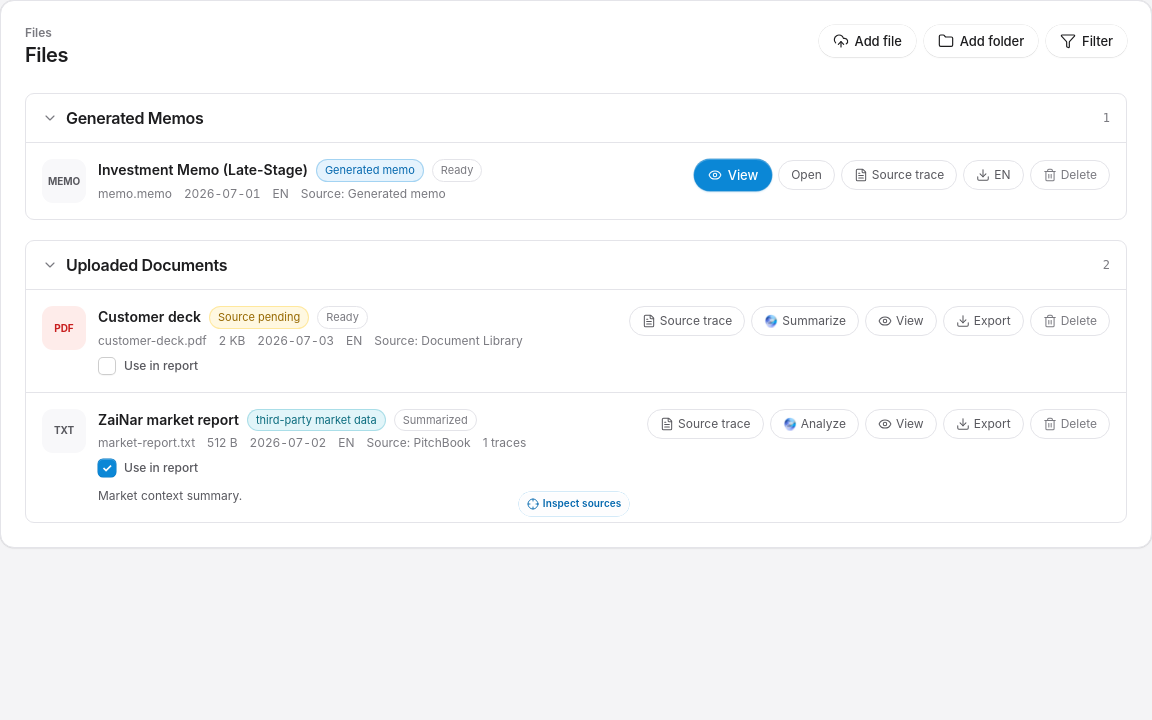
UnifiedDocumentsView › renders grouped documents, filters source classes, and opens source traces
The image size is (1152, 720).
Expected: the text "1 awaiting review" is not shown
Click the button "Filter" at (1087, 41), box [1046,25,1127,57]
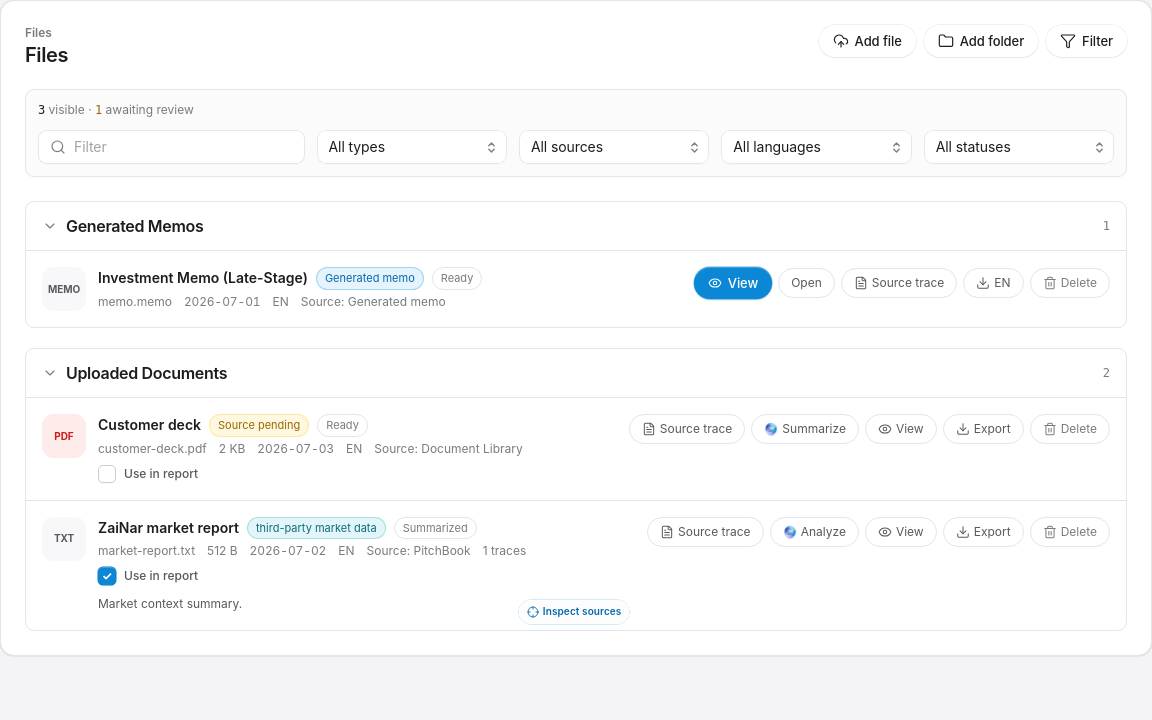
Now the text "1 awaiting review" is shown, box [88,102,194,117]
Select "third-party market data" in the dropdown named "All sources" at (614, 147), box [519,130,709,164]
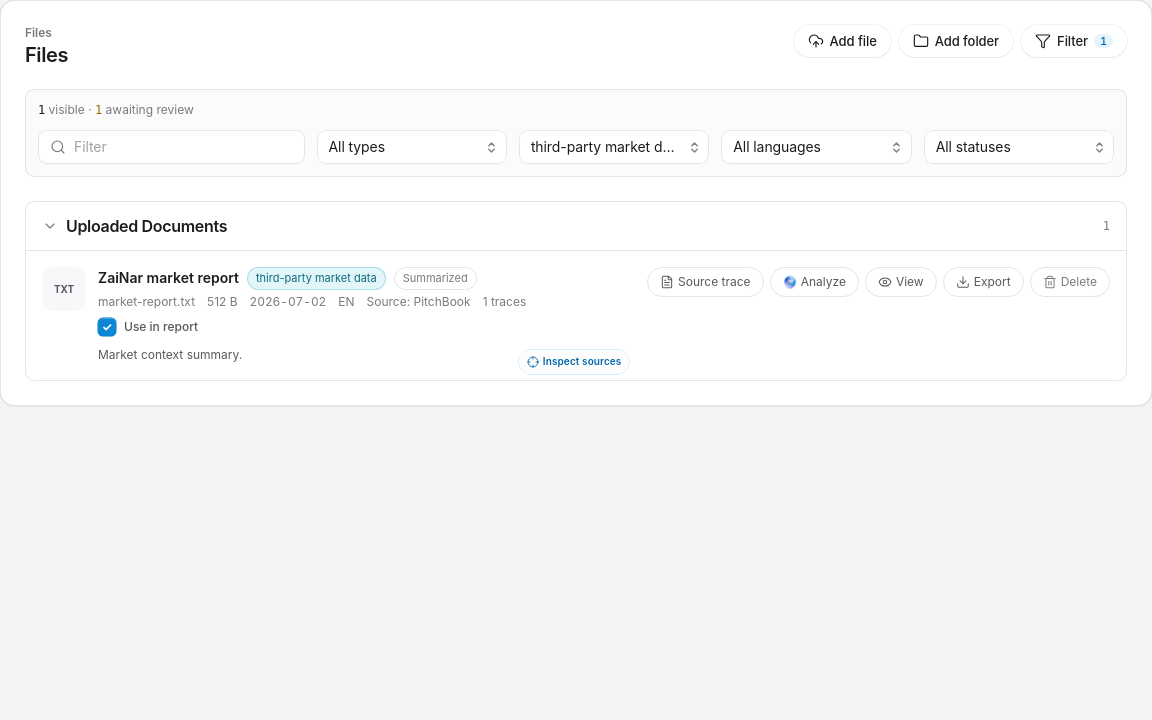
Expected: the text "ZaiNar market report" is shown, [98,268,239,288]
Now the text "Customer deck" is gone
Click the button "Source trace" at (705, 282), box [647,267,764,297]
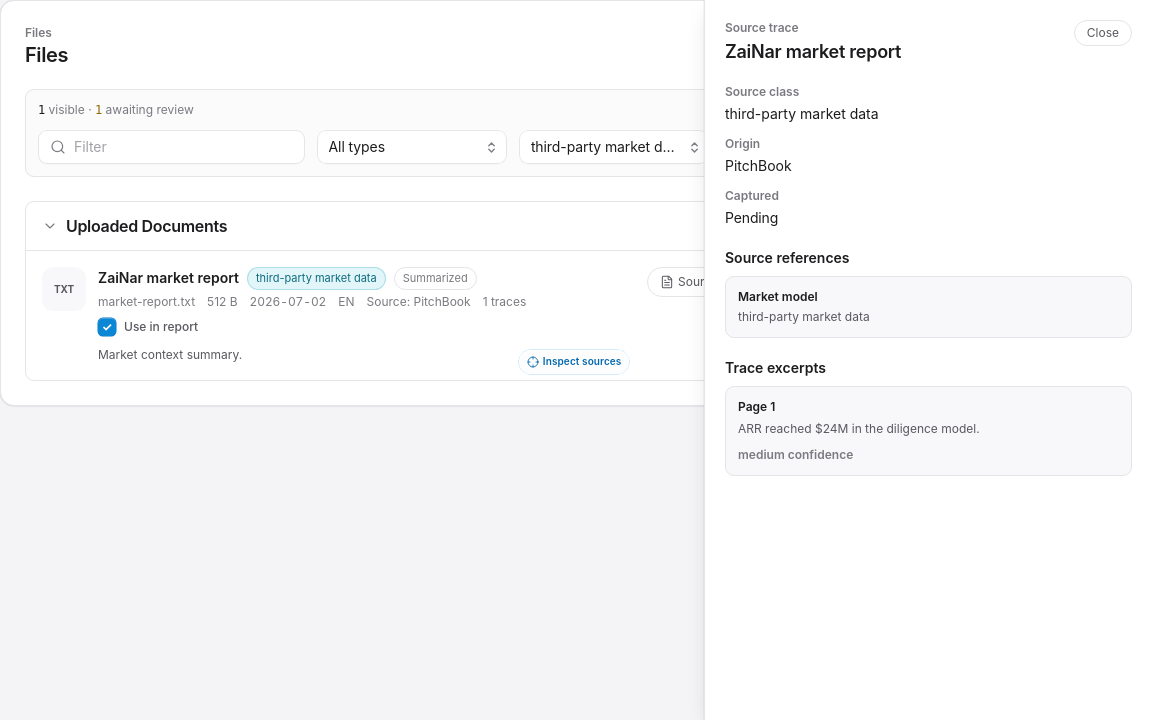
Expected: the text "PitchBook" is shown, [366,294,471,308]
Now the text "ARR reached $24M" is shown, box [738,421,980,436]
